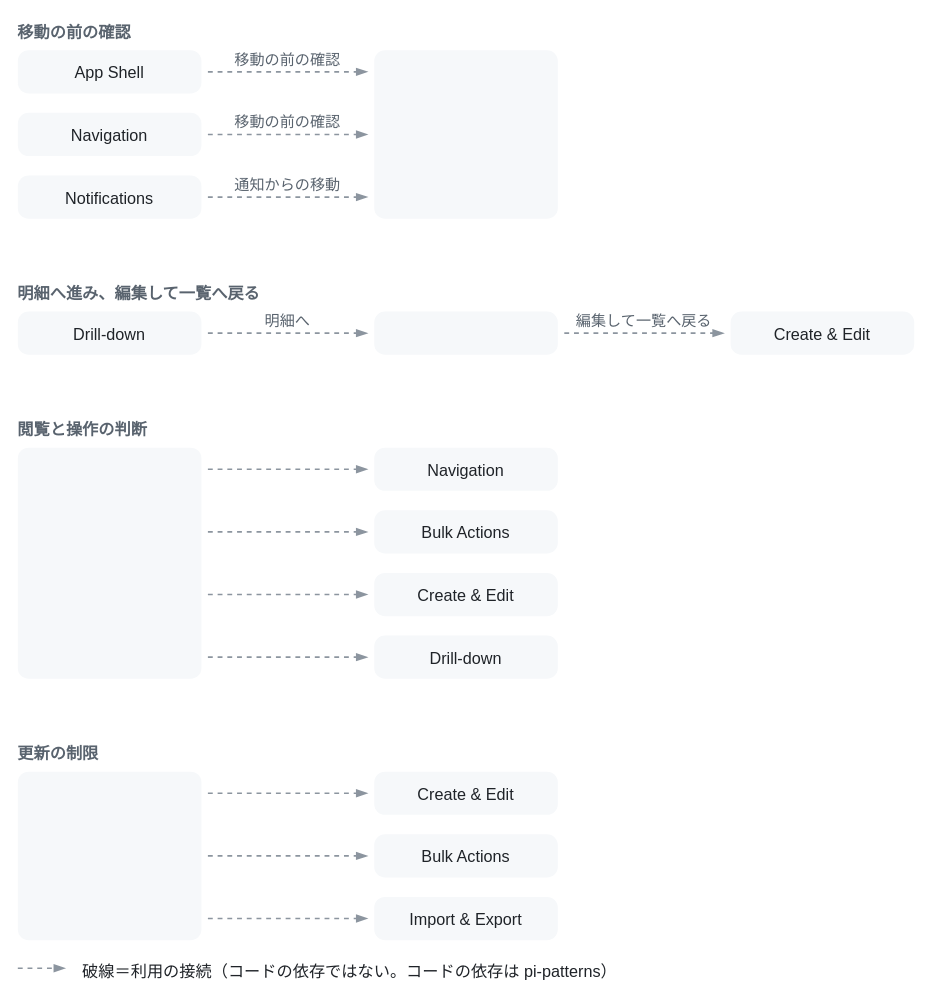
This 932x998 diagram has some shape labels left out. Each missing label, with the centre of its shape:
List & Detail: the point at 465,332
Permission States: the point at 109,562
System States: the point at 109,855
Unsaved Changes: the point at 465,134
